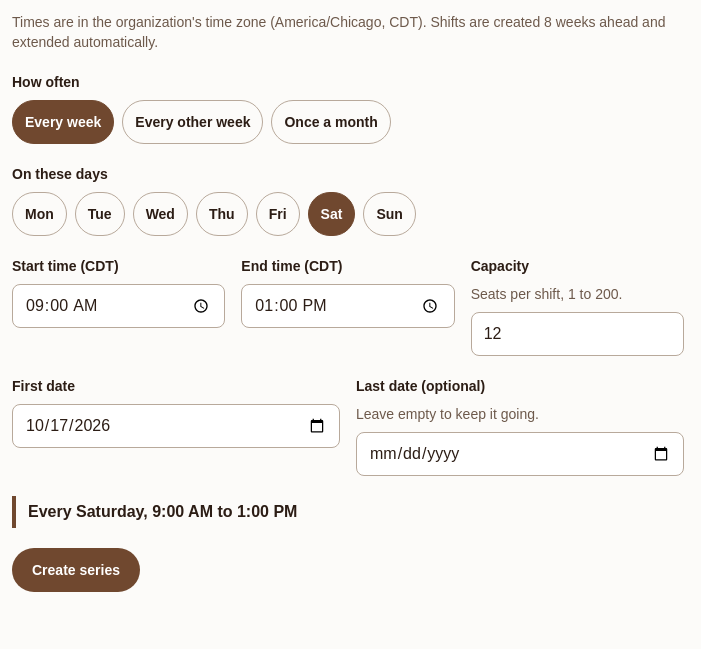
Test: SeriesForm › shows the error next to the field and does not submit
Step 1. Click the checkbox named "Saturday" → (332, 214), box [308,192,355,236]
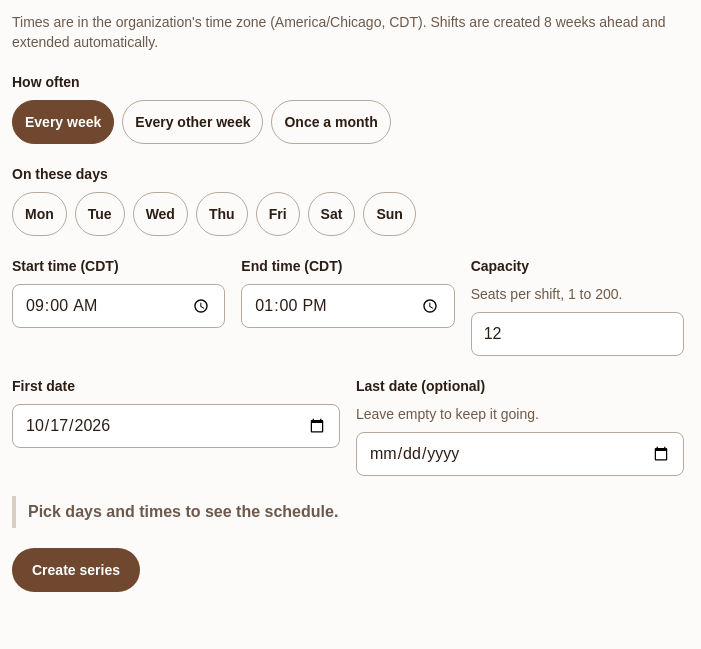
Check: the text "Pick days and times to see the schedule." is shown, box [12,496,684,528]
Step 2. Click the button "Create series" → (76, 570), box [12,548,140,592]
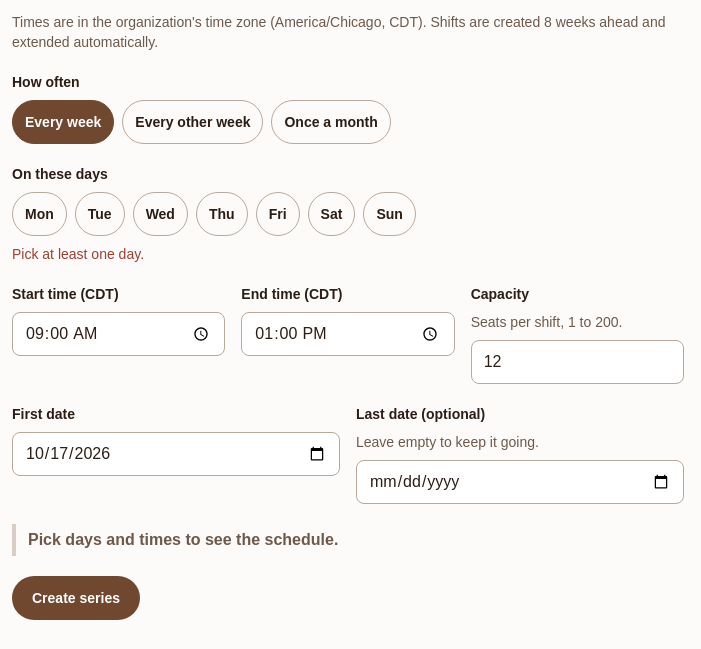
Check: the text "Pick at least one day." is shown, box [12,246,144,262]
Step 3. Click the checkbox named "Saturday" → (332, 214), box [308,192,355,236]
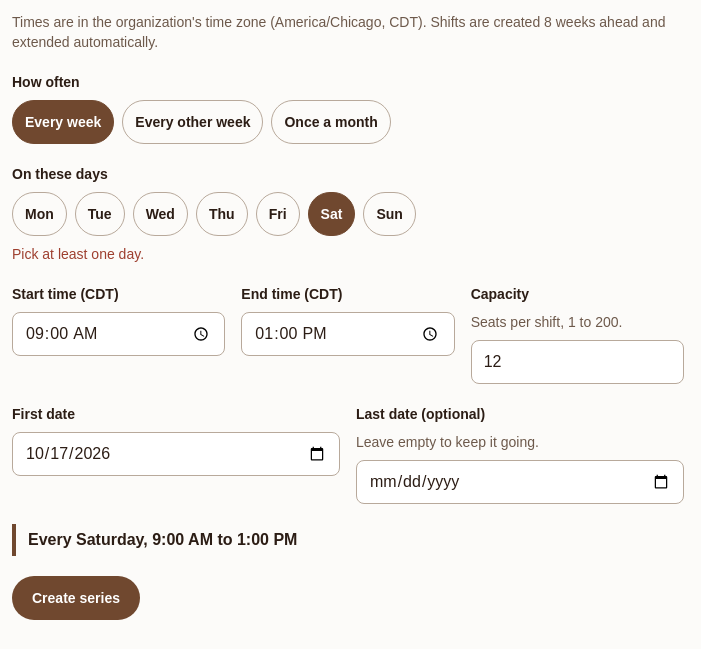
Step 4. Replace the text in the time field labelled "End time (CDT)" with "08:00" → (348, 334), box [241,312,455,356]
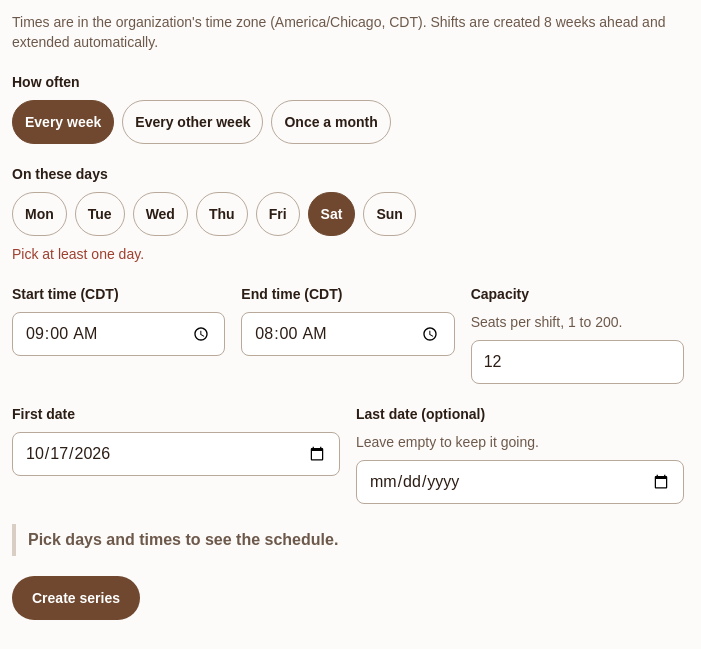
Step 5. Click the button "Create series" → (76, 598), box [12,576,140,620]
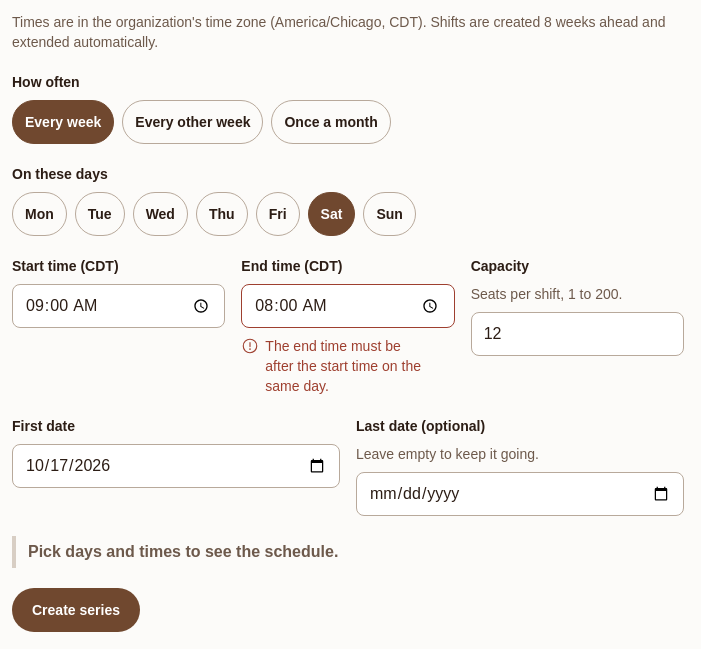
Check: the text "The end time must be after the start time on the same day." is shown, box [241,337,421,394]
